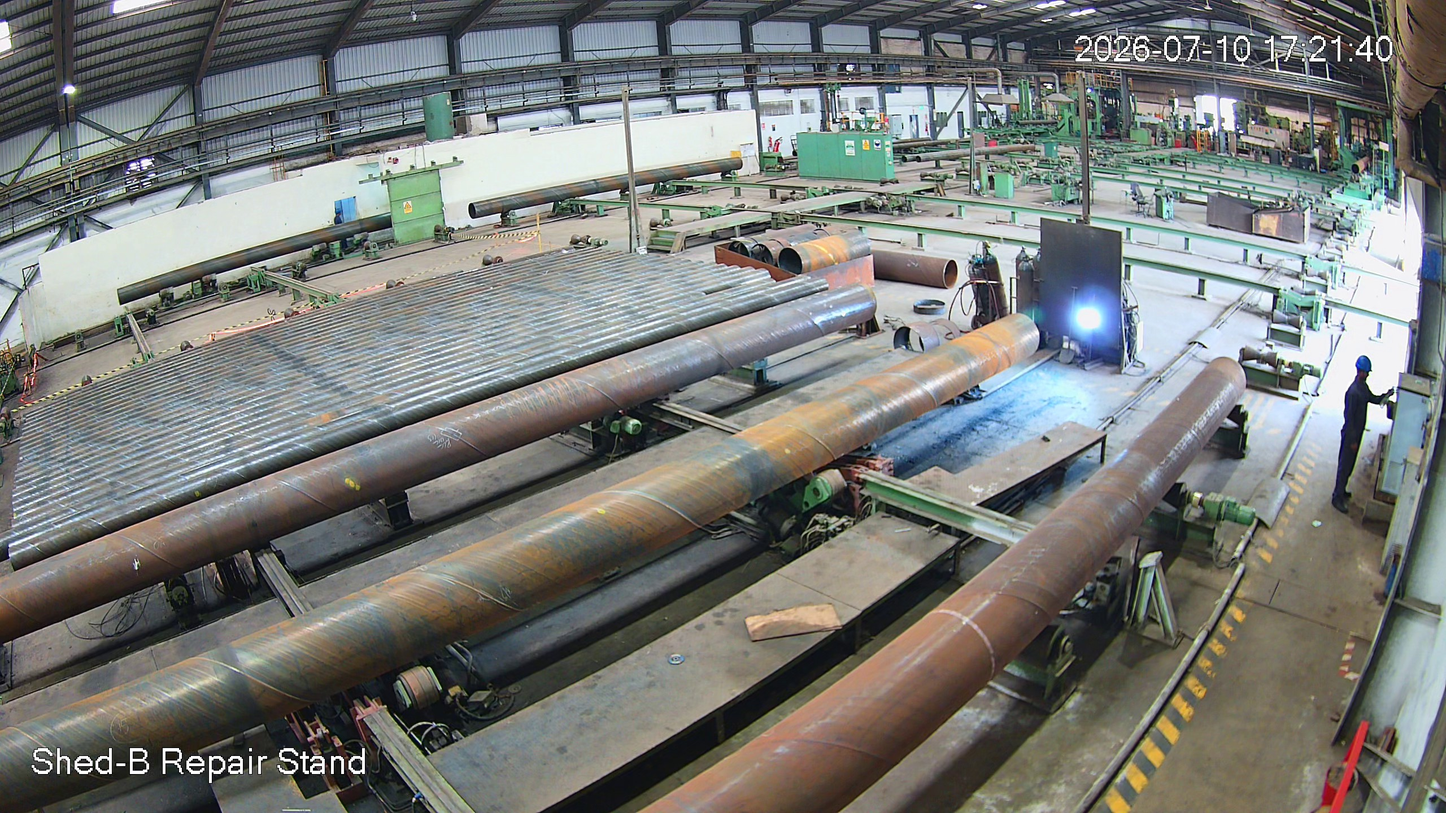Helmet: (1351, 352, 1376, 386)
Person: (1329, 356, 1378, 517)
